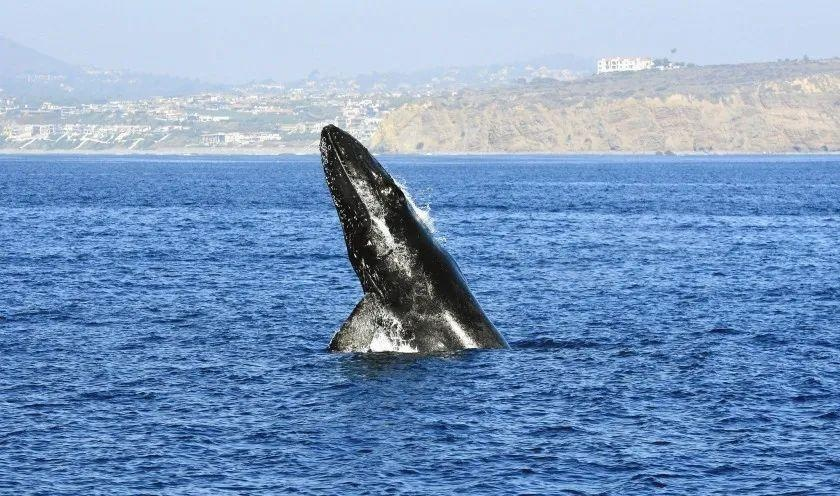fish: (308, 120, 522, 359)
